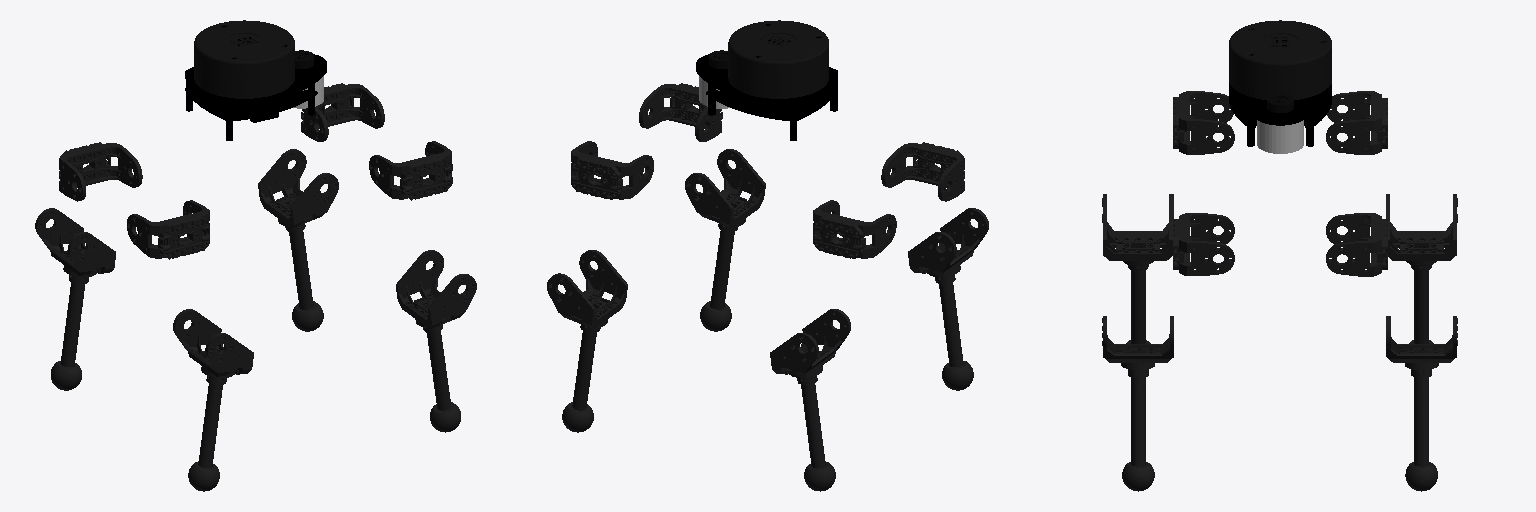
--- Facts derived from the render (not from the file) ---
Views: 3 orthographic renders of the robot side by side, from view 1: azimuth 30°, elevation 25°; view 2: azimuth 150°, elevation 25°; view 3: azimuth 270°, elevation 25°.
Model oped with 24 links and 23 joints (12 revolute, 11 fixed), rooted at base_link, posed every joint at zero.
Visible links, largest first — view 1: lidar_frame, lf_lower_leg_link, rf_lower_leg_link, rh_lower_leg_link, lh_lower_leg_link, rf_hip_link, lh_hip_link, rh_hip_link, lf_hip_link; view 2: lidar_frame, lf_lower_leg_link, rf_lower_leg_link, rh_lower_leg_link, lh_lower_leg_link, lh_hip_link, rh_hip_link, lf_hip_link, rf_hip_link; view 3: lidar_frame, lf_lower_leg_link, rf_lower_leg_link, rh_lower_leg_link, lh_lower_leg_link, lf_hip_link, rf_hip_link, lh_hip_link, rh_hip_link.
Link boxes in pixels (x1,y1,x2,y2): lidar_frame: (185, 20, 326, 140); lf_lower_leg_link: (258, 149, 338, 331); rf_lower_leg_link: (396, 250, 476, 432); rh_lower_leg_link: (173, 309, 253, 491); lh_lower_leg_link: (35, 208, 115, 390); rf_hip_link: (369, 141, 452, 200); lh_hip_link: (59, 142, 142, 201); rh_hip_link: (127, 200, 209, 259); lf_hip_link: (301, 83, 384, 141); lidar_frame: (696, 20, 837, 140); lf_lower_leg_link: (547, 250, 627, 432); rf_lower_leg_link: (685, 149, 765, 331); rh_lower_leg_link: (908, 208, 988, 390); lh_lower_leg_link: (770, 309, 850, 491); lh_hip_link: (813, 200, 896, 258); rh_hip_link: (881, 142, 964, 201); lf_hip_link: (571, 141, 653, 199); rf_hip_link: (639, 83, 722, 141); lidar_frame: (1229, 20, 1331, 153); lf_lower_leg_link: (1386, 316, 1457, 491); rf_lower_leg_link: (1102, 316, 1173, 491); rh_lower_leg_link: (1102, 194, 1173, 343); lh_lower_leg_link: (1386, 194, 1457, 343); lf_hip_link: (1326, 213, 1387, 276); rf_hip_link: (1173, 213, 1234, 275); lh_hip_link: (1326, 91, 1387, 154); rh_hip_link: (1173, 91, 1234, 154).
Bounding box of the posed robot: 0.2427 × 0.2397 × 0.2845 m (x, y, z).
9 mesh visuals loaded from 6 distinct referenced files (3 Collada DAE); not drawn: 5 (reference not matched to a file when rendering).

The robot description file, URDF, robot "oped":
<?xml version="1.0" encoding="utf-8"?>
<!-- =================================================================================== -->
<!-- |    This document was autogenerated by xacro from oped.urdf.xacro                | -->
<!-- |    EDITING THIS FILE BY HAND IS NOT RECOMMENDED                                 | -->
<!-- =================================================================================== -->
<robot name="oped">
  <material name="black">
    <color rgba="0.15 0.15 0.15 1.0"/>
  </material>
  <link name="base_link">
    <collision>
      <origin rpy="0 0 0" xyz="0 0 0"/>
      <geometry>
        <mesh filename="package://oped_description/meshes/base_x.dae"/>
      </geometry>
    </collision>
    <visual>
      <origin rpy="0 0 0" xyz="0 0 0"/>
      <geometry>
        <mesh filename="package://oped_description/meshes/base_x.dae"/>
      </geometry>
      <material name="black"/>
    </visual>
  </link>
  <link name="base_inertia">
    <inertial>
      <origin xyz="0 0 0"/>
      <mass value="0.7"/>
      <inertia ixx="0.00252956666667" ixy="0.0" ixz="0.0" iyy="0.00301373333333" iyz="0.0" izz="0.000876633333333"/>
    </inertial>
  </link>
  <joint name="base_link_to_base_inertia" type="fixed">
    <parent link="base_link"/>
    <child link="base_inertia"/>
    <origin rpy="0 0 0" xyz="0 0 0"/>
  </joint>
  <gazebo reference="base_link">
    <material>Gazebo/FlatBlack</material>
  </gazebo>
  <!-- Init colour -->
  <material name="dark">
    <color rgba="0.3 0.3 0.3 1.0"/>
  </material>
  <material name="light_black">
    <color rgba="0.4 0.4 0.4 1.0"/>
  </material>
  <material name="blue">
    <color rgba="0.0 0.0 0.8 1.0"/>
  </material>
  <material name="green">
    <color rgba="0.0 0.8 0.0 1.0"/>
  </material>
  <material name="grey">
    <color rgba="0.5 0.5 0.5 1.0"/>
  </material>
  <material name="orange">
    <color rgba="1.0 0.423529411765 0.0392156862745 1.0"/>
  </material>
  <material name="brown">
    <color rgba="0.870588235294 0.811764705882 0.764705882353 1.0"/>
  </material>
  <material name="red">
    <color rgba="0.8 0.0 0.0 1.0"/>
  </material>
  <material name="white">
    <color rgba="1.0 1.0 1.0 1.0"/>
  </material>
  <gazebo reference="lidar_frame">
    <material>Gazebo/FlatBlack</material>
    <sensor name="lds_lfcd_sensor" type="ray">
      <pose>0 0 0 0 0 0</pose>
      <visualize>false</visualize>
      <update_rate>5</update_rate>
      <ray>
        <scan>
          <horizontal>
            <samples>360</samples>
            <resolution>1</resolution>
            <min_angle>0.0</min_angle>
            <max_angle>6.28319</max_angle>
          </horizontal>
        </scan>
        <range>
          <min>0.120</min>
          <max>10.0</max>
          <resolution>0.5</resolution>
        </range>
        <noise>
          <type>gaussian</type>
          <mean>0.0</mean>
          <stddev>0.01</stddev>
        </noise>
      </ray>
      <plugin filename="libgazebo_ros_laser.so" name="gazebo_ros_lds_lfcd_controller">
        <topicName>scan</topicName>
        <frameName>lidar_frame</frameName>
      </plugin>
    </sensor>
  </gazebo>
  <joint name="scan_joint" type="fixed">
    <parent link="base_link"/>
    <child link="lidar_frame"/>
    <origin rpy="0 0 0" xyz="-0.007 0 0.077"/>
  </joint>
  <link name="lidar_frame">
    <visual>
      <origin rpy="0 0 0" xyz="0.007 0 -0.067"/>
      <geometry>
        <mesh filename="package://oped_description/meshes/rplidar.dae"/>
      </geometry>
    </visual>
    <collision>
      <origin rpy="0 0 0" xyz="0 0 0.01"/>
      <geometry>
        <cylinder length="0.0315" radius="0.035"/>
      </geometry>
      <material name="dark"/>
    </collision>
    <inertial>
      <mass value="0.001"/>
      <origin xyz="0 0 0"/>
      <inertia ixx="0.000001" ixy="0.0" ixz="0.0" iyy="0.000001" iyz="0.0" izz="0.000001"/>
    </inertial>
  </link>
  <gazebo>
    <plugin filename="libhector_gazebo_ros_imu.so" name="imu_controller">
      <robotNamespace>/</robotNamespace>
      <updateRate>50.0</updateRate>
      <bodyName>imu_link</bodyName>
      <topicName>imu/data</topicName>
      <accelDrift>0.005 0.005 0.005</accelDrift>
      <accelGaussianNoise>0.005 0.005 0.005</accelGaussianNoise>
      <rateDrift>0.005 0.005 0.005 </rateDrift>
      <rateGaussianNoise>0.005 0.005 0.005 </rateGaussianNoise>
      <headingDrift>0.005</headingDrift>
      <headingGaussianNoise>0.005</headingGaussianNoise>
    </plugin>
  </gazebo>
  <link name="imu_link">
    <inertial>
      <mass value="0.001"/>
      <origin rpy="0 0 0" xyz="0 0 0"/>
      <inertia ixx="1e-09" ixy="0.0" ixz="0.0" iyy="1e-09" iyz="0.0" izz="1e-09"/>
    </inertial>
  </link>
  <joint name="imu_joint" type="fixed">
    <parent link="base_link"/>
    <child link="imu_link"/>
  </joint>
  <link name="lf_hip_debug_link"/>
  <link name="lf_hip_link">
    <inertial>
      <mass value="0.05"/>
      <inertia ixx="1.69770833333e-05" ixy="0.0" ixz="0.0" iyy="1.24052083333e-05" iyz="0.0" izz="9.78020833333e-06"/>
    </inertial>
    <collision>
      <origin rpy="0 0 -3.14159" xyz="0 0 0"/>
      <geometry>
        <mesh filename="package://oped_description/meshes/hip.dae"/>
      </geometry>
    </collision>
    <visual>
      <origin rpy="0 0 -3.14159" xyz="0 0 0"/>
      <geometry>
        <mesh filename="package://oped_description/meshes/hip.dae"/>
      </geometry>
      <material name="black"/>
    </visual>
  </link>
  <gazebo reference="lf_hip_link">
    <material>Gazebo/FlatBlack</material>
  </gazebo>
  <link name="lf_upper_leg_link">
    <inertial>
      <origin xyz="0 0 -0.03225"/>
      <mass value="0.025"/>
      <inertia ixx="1.98258541667e-05" ixy="0.0" ixz="0.0" iyy="8.90085416667e-06" iyz="0.0" izz="2.13416666667e-05"/>
    </inertial>
    <collision>
      <origin rpy="0 0 0" xyz="0 0 0"/>
      <geometry>
        <mesh filename="package://oped_description/meshes/left_upper_leg.dae"/>
      </geometry>
    </collision>
    <visual>
      <origin rpy="0 0 0" xyz="0 0 0"/>
      <geometry>
        <mesh filename="package://oped_description/meshes/left_upper_leg.dae"/>
      </geometry>
      <material name="black"/>
    </visual>
  </link>
  <gazebo reference="lf_upper_leg_link">
    <material>Gazebo/FlatBlack</material>
  </gazebo>
  <link name="lf_lower_leg_link">
    <inertial>
      <origin xyz="0 0 -0.09285"/>
      <mass value="0.025"/>
      <inertia ixx="5.65146977721e-06" ixy="0.0" ixz="0.0" iyy="8.12310416667e-06" iyz="0.0" izz="3.23253227721e-06"/>
    </inertial>
    <collision>
      <origin rpy="0 0 0" xyz="0 0 0"/>
      <geometry>
        <mesh filename="package://oped_description/meshes/lower_leg.dae"/>
      </geometry>
    </collision>
    <visual>
      <origin rpy="0 0 0" xyz="0 0 0"/>
      <geometry>
        <mesh filename="package://oped_description/meshes/lower_leg.dae"/>
      </geometry>
      <material name="black"/>
    </visual>
  </link>
  <gazebo reference="lf_lower_leg_link">
    <kp>1000000.0</kp>
    <kd>1.0</kd>
    <mu1>0.8</mu1>
    <mu2>0.8</mu2>
    <maxVel>0.0</maxVel>
    <minDepth>0.001</minDepth>
    <material>Gazebo/FlatBlack</material>
  </gazebo>
  <link name="lf_foot_link"/>
  <joint name="lf_debug_joint" type="fixed">
    <parent link="base_link"/>
    <child link="lf_hip_debug_link"/>
    <origin rpy="0 0 0" xyz="0.099 0.04177 0"/>
  </joint>
  <joint name="lf_hip_joint" type="revolute">
    <axis xyz="1 0 0"/>
    <limit effort="1000" lower="-3.14159265359" upper="3.14159265359" velocity="1.5"/>
    <!-- <limit effort="25" lower="-0.68" upper="0.68" velocity="1.5" /> -->
    <parent link="base_link"/>
    <child link="lf_hip_link"/>
    <origin rpy="0 0 0" xyz="0.099 0.04177 0"/>
  </joint>
  <joint name="lf_upper_leg_joint" type="revolute">
    <axis xyz="0 1 0"/>
    <limit effort="1000" lower="-3.14159265359" upper="3.14159265359" velocity="1.5"/>
    <parent link="lf_hip_link"/>
    <child link="lf_upper_leg_link"/>
    <origin rpy="0 0 0" xyz="0 0.052 0"/>
  </joint>
  <joint name="lf_lower_leg_joint" type="revolute">
    <axis xyz="0 1 0"/>
    <limit effort="1000" lower="-3.14159265359" upper="3.14159265359" velocity="1.5"/>
    <!-- <limit effort="25" lower="-2.84" upper="0.54" velocity="1.5" /> -->
    <parent link="lf_upper_leg_link"/>
    <child link="lf_lower_leg_link"/>
    <origin rpy="0 0 0" xyz="0 0.0015 -0.0645"/>
  </joint>
  <joint name="lf_foot_joint" type="fixed">
    <parent link="lf_lower_leg_link"/>
    <child link="lf_foot_link"/>
    <origin rpy="0 0 0" xyz="0 0 -0.118"/>
  </joint>
  <transmission name="lf_hip_joint_trans">
    <type>transmission_interface/SimpleTransmission</type>
    <joint name="lf_hip_joint">
      <hardwareInterface>hardware_interface/EffortJointInterface</hardwareInterface>
    </joint>
    <actuator name="lf_hip_joint_motor">
      <hardwareInterface>hardware_interface/EffortJointInterface</hardwareInterface>
      <mechanicalReduction>1</mechanicalReduction>
    </actuator>
  </transmission>
  <transmission name="lf_upper_leg_joint_trans">
    <type>transmission_interface/SimpleTransmission</type>
    <joint name="lf_upper_leg_joint">
      <hardwareInterface>hardware_interface/EffortJointInterface</hardwareInterface>
    </joint>
    <actuator name="lf_upper_leg_joint_motor">
      <hardwareInterface>hardware_interface/EffortJointInterface</hardwareInterface>
      <mechanicalReduction>1</mechanicalReduction>
    </actuator>
  </transmission>
  <transmission name="lf_lower_leg_joint_trans">
    <type>transmission_interface/SimpleTransmission</type>
    <joint name="lf_lower_leg_joint">
      <hardwareInterface>hardware_interface/EffortJointInterface</hardwareInterface>
    </joint>
    <actuator name="lf_lower_joint_motor">
      <hardwareInterface>hardware_interface/EffortJointInterface</hardwareInterface>
      <mechanicalReduction>1</mechanicalReduction>
    </actuator>
  </transmission>
  <link name="lh_hip_debug_link"/>
  <link name="lh_hip_link">
    <inertial>
      <mass value="0.05"/>
      <inertia ixx="1.69770833333e-05" ixy="0.0" ixz="0.0" iyy="1.24052083333e-05" iyz="0.0" izz="9.78020833333e-06"/>
    </inertial>
    <collision>
      <origin rpy="0 0 -3.14159" xyz="0 0 0"/>
      <geometry>
        <mesh filename="package://oped_description/meshes/hip.dae"/>
      </geometry>
    </collision>
    <visual>
      <origin rpy="0 0 -3.14159" xyz="0 0 0"/>
      <geometry>
        <mesh filename="package://oped_description/meshes/hip.dae"/>
      </geometry>
      <material name="black"/>
    </visual>
  </link>
  <gazebo reference="lh_hip_link">
    <material>Gazebo/FlatBlack</material>
  </gazebo>
  <link name="lh_upper_leg_link">
    <inertial>
      <origin xyz="0 0 -0.03225"/>
      <mass value="0.025"/>
      <inertia ixx="1.98258541667e-05" ixy="0.0" ixz="0.0" iyy="8.90085416667e-06" iyz="0.0" izz="2.13416666667e-05"/>
    </inertial>
    <collision>
      <origin rpy="0 0 -3.14159" xyz="0 0 0"/>
      <geometry>
        <mesh filename="package://oped_description/meshes/left_upper_leg.dae"/>
      </geometry>
    </collision>
    <visual>
      <origin rpy="0 0 -3.14159" xyz="0 0 0"/>
      <geometry>
        <mesh filename="package://oped_description/meshes/left_upper_leg.dae"/>
      </geometry>
      <material name="black"/>
    </visual>
  </link>
  <gazebo reference="lh_upper_leg_link">
    <material>Gazebo/FlatBlack</material>
  </gazebo>
  <link name="lh_lower_leg_link">
    <inertial>
      <origin xyz="0 0 -0.09285"/>
      <mass value="0.025"/>
      <inertia ixx="5.65146977721e-06" ixy="0.0" ixz="0.0" iyy="8.12310416667e-06" iyz="0.0" izz="3.23253227721e-06"/>
    </inertial>
    <collision>
      <origin rpy="0 0 -3.14159" xyz="0 0 0"/>
      <geometry>
        <mesh filename="package://oped_description/meshes/lower_leg.dae"/>
      </geometry>
    </collision>
    <visual>
      <origin rpy="0 0 -3.14159" xyz="0 0 0"/>
      <geometry>
        <mesh filename="package://oped_description/meshes/lower_leg.dae"/>
      </geometry>
      <material name="black"/>
    </visual>
  </link>
  <gazebo reference="lh_lower_leg_link">
    <kp>1000000.0</kp>
    <kd>1.0</kd>
    <mu1>0.8</mu1>
    <mu2>0.8</mu2>
    <maxVel>0.0</maxVel>
    <minDepth>0.001</minDepth>
    <material>Gazebo/FlatBlack</material>
  </gazebo>
  <link name="lh_foot_link"/>
  <joint name="lh_debug_joint" type="fixed">
    <parent link="base_link"/>
    <child link="lh_hip_debug_link"/>
    <origin rpy="0 0 0" xyz="-0.095 0.04177 0"/>
  </joint>
  <joint name="lh_hip_joint" type="revolute">
    <axis xyz="1 0 0"/>
    <limit effort="1000" lower="-3.14159265359" upper="3.14159265359" velocity="1.5"/>
    <!-- <limit effort="25" lower="-0.68" upper="0.68" velocity="1.5" /> -->
    <parent link="base_link"/>
    <child link="lh_hip_link"/>
    <origin rpy="0 0 0" xyz="-0.095 0.04177 0"/>
  </joint>
  <joint name="lh_upper_leg_joint" type="revolute">
    <axis xyz="0 1 0"/>
    <limit effort="1000" lower="-3.14159265359" upper="3.14159265359" velocity="1.5"/>
    <parent link="lh_hip_link"/>
    <child link="lh_upper_leg_link"/>
    <origin rpy="0 0 0" xyz="0 0.052 0"/>
  </joint>
  <joint name="lh_lower_leg_joint" type="revolute">
    <axis xyz="0 1 0"/>
    <limit effort="1000" lower="-3.14159265359" upper="3.14159265359" velocity="1.5"/>
    <!-- <limit effort="25" lower="-2.84" upper="0.54" velocity="1.5" /> -->
    <parent link="lh_upper_leg_link"/>
    <child link="lh_lower_leg_link"/>
    <origin rpy="0 0 0" xyz="0 0.0015 -0.0645"/>
  </joint>
  <joint name="lh_foot_joint" type="fixed">
    <parent link="lh_lower_leg_link"/>
    <child link="lh_foot_link"/>
    <origin rpy="0 0 0" xyz="0 0 -0.118"/>
  </joint>
  <transmission name="lh_hip_joint_trans">
    <type>transmission_interface/SimpleTransmission</type>
    <joint name="lh_hip_joint">
      <hardwareInterface>hardware_interface/EffortJointInterface</hardwareInterface>
    </joint>
    <actuator name="lh_hip_joint_motor">
      <hardwareInterface>hardware_interface/EffortJointInterface</hardwareInterface>
      <mechanicalReduction>1</mechanicalReduction>
    </actuator>
  </transmission>
  <transmission name="lh_upper_leg_joint_trans">
    <type>transmission_interface/SimpleTransmission</type>
    <joint name="lh_upper_leg_joint">
      <hardwareInterface>hardware_interface/EffortJointInterface</hardwareInterface>
    </joint>
    <actuator name="lh_upper_leg_joint_motor">
      <hardwareInterface>hardware_interface/EffortJointInterface</hardwareInterface>
      <mechanicalReduction>1</mechanicalReduction>
    </actuator>
  </transmission>
  <transmission name="lh_lower_leg_joint_trans">
    <type>transmission_interface/SimpleTransmission</type>
    <joint name="lh_lower_leg_joint">
      <hardwareInterface>hardware_interface/EffortJointInterface</hardwareInterface>
    </joint>
    <actuator name="lh_lower_joint_motor">
      <hardwareInterface>hardware_interface/EffortJointInterface</hardwareInterface>
      <mechanicalReduction>1</mechanicalReduction>
    </actuator>
  </transmission>
  <link name="rf_hip_debug_link"/>
  <link name="rf_hip_link">
    <inertial>
      <mass value="0.05"/>
      <inertia ixx="1.69770833333e-05" ixy="0.0" ixz="0.0" iyy="1.24052083333e-05" iyz="0.0" izz="9.78020833333e-06"/>
    </inertial>
    <collision>
      <origin rpy="0 0 0" xyz="0 0 0"/>
      <geometry>
        <mesh filename="package://oped_description/meshes/hip.dae"/>
      </geometry>
    </collision>
    <visual>
      <origin rpy="0 0 0" xyz="0 0 0"/>
      <geometry>
        <mesh filename="package://oped_description/meshes/hip.dae"/>
      </geometry>
      <material name="black"/>
    </visual>
  </link>
  <gazebo reference="rf_hip_link">
    <material>Gazebo/FlatBlack</material>
  </gazebo>
  <link name="rf_upper_leg_link">
    <inertial>
      <origin xyz="0 0 -0.03225"/>
      <mass value="0.025"/>
      <inertia ixx="1.98258541667e-05" ixy="0.0" ixz="0.0" iyy="8.90085416667e-06" iyz="0.0" izz="2.13416666667e-05"/>
    </inertial>
    <collision>
      <origin rpy="0 0 0" xyz="0 0 0"/>
      <geometry>
        <mesh filename="package://oped_description/meshes/right_upper_leg.dae"/>
      </geometry>
    </collision>
    <visual>
      <origin rpy="0 0 0" xyz="0 0 0"/>
      <geometry>
        <mesh filename="package://oped_description/meshes/right_upper_leg.dae"/>
      </geometry>
      <material name="black"/>
    </visual>
  </link>
  <gazebo reference="rf_upper_leg_link">
    <material>Gazebo/FlatBlack</material>
  </gazebo>
  <link name="rf_lower_leg_link">
    <inertial>
      <origin xyz="0 0 -0.09285"/>
      <mass value="0.025"/>
      <inertia ixx="5.65146977721e-06" ixy="0.0" ixz="0.0" iyy="8.12310416667e-06" iyz="0.0" izz="3.23253227721e-06"/>
    </inertial>
    <collision>
      <origin rpy="0 0 0" xyz="0 0 0"/>
      <geometry>
        <mesh filename="package://oped_description/meshes/lower_leg.dae"/>
      </geometry>
    </collision>
    <visual>
      <origin rpy="0 0 0" xyz="0 0 0"/>
      <geometry>
        <mesh filename="package://oped_description/meshes/lower_leg.dae"/>
      </geometry>
      <material name="black"/>
    </visual>
  </link>
  <gazebo reference="rf_lower_leg_link">
    <kp>1000000.0</kp>
    <kd>1.0</kd>
    <mu1>0.8</mu1>
    <mu2>0.8</mu2>
    <maxVel>0.0</maxVel>
    <minDepth>0.001</minDepth>
    <material>Gazebo/FlatBlack</material>
  </gazebo>
  <link name="rf_foot_link"/>
  <joint name="rf_debug_joint" type="fixed">
    <parent link="base_link"/>
    <child link="rf_hip_debug_link"/>
    <origin rpy="0 0 0" xyz="0.099 -0.04177 0"/>
  </joint>
  <joint name="rf_hip_joint" type="revolute">
    <axis xyz="1 0 0"/>
    <limit effort="1000" lower="-3.14159265359" upper="3.14159265359" velocity="1.5"/>
    <!-- <limit effort="25" lower="-0.68" upper="0.68" velocity="1.5" /> -->
    <parent link="base_link"/>
    <child link="rf_hip_link"/>
    <origin rpy="0 0 0" xyz="0.099 -0.04177 0"/>
  </joint>
  <joint name="rf_upper_leg_joint" type="revolute">
    <axis xyz="0 1 0"/>
    <limit effort="1000" lower="-3.14159265359" upper="3.14159265359" velocity="1.5"/>
    <parent link="rf_hip_link"/>
    <child link="rf_upper_leg_link"/>
    <origin rpy="0 0 0" xyz="0 -0.052 0"/>
  </joint>
  <joint name="rf_lower_leg_joint" type="revolute">
    <axis xyz="0 1 0"/>
    <limit effort="1000" lower="-3.14159265359" upper="3.14159265359" velocity="1.5"/>
    <!-- <limit effort="25" lower="-2.84" upper="0.54" velocity="1.5" /> -->
    <parent link="rf_upper_leg_link"/>
    <child link="rf_lower_leg_link"/>
    <origin rpy="0 0 0" xyz="0 -0.002 -0.0645"/>
  </joint>
  <joint name="rf_foot_joint" type="fixed">
    <parent link="rf_lower_leg_link"/>
    <child link="rf_foot_link"/>
    <origin rpy="0 0 0" xyz="0 0 -0.118"/>
  </joint>
  <transmission name="rf_hip_joint_trans">
    <type>transmission_interface/SimpleTransmission</type>
    <joint name="rf_hip_joint">
      <hardwareInterface>hardware_interface/EffortJointInterface</hardwareInterface>
    </joint>
    <actuator name="rf_hip_joint_motor">
      <hardwareInterface>hardware_interface/EffortJointInterface</hardwareInterface>
      <mechanicalReduction>1</mechanicalReduction>
    </actuator>
  </transmission>
  <transmission name="rf_upper_leg_joint_trans">
    <type>transmission_interface/SimpleTransmission</type>
    <joint name="rf_upper_leg_joint">
      <hardwareInterface>hardware_interface/EffortJointInterface</hardwareInterface>
    </joint>
    <actuator name="rf_upper_leg_joint_motor">
      <hardwareInterface>hardware_interface/EffortJointInterface</hardwareInterface>
      <mechanicalReduction>1</mechanicalReduction>
    </actuator>
  </transmission>
  <transmission name="rf_lower_leg_joint_trans">
    <type>transmission_interface/SimpleTransmission</type>
    <joint name="rf_lower_leg_joint">
      <hardwareInterface>hardware_interface/EffortJointInterface</hardwareInterface>
    </joint>
    <actuator name="rf_lower_joint_motor">
      <hardwareInterface>hardware_interface/EffortJointInterface</hardwareInterface>
      <mechanicalReduction>1</mechanicalReduction>
    </actuator>
  </transmission>
  <link name="rh_hip_debug_link"/>
  <link name="rh_hip_link">
    <inertial>
      <mass value="0.05"/>
      <inertia ixx="1.69770833333e-05" ixy="0.0" ixz="0.0" iyy="1.24052083333e-05" iyz="0.0" izz="9.78020833333e-06"/>
    </inertial>
    <collision>
      <origin rpy="0 0 0" xyz="0 0 0"/>
      <geometry>
        <mesh filename="package://oped_description/meshes/hip.dae"/>
      </geometry>
    </collision>
    <visual>
      <origin rpy="0 0 0" xyz="0 0 0"/>
      <geometry>
        <mesh filename="package://oped_description/meshes/hip.dae"/>
      </geometry>
      <material name="black"/>
    </visual>
  </link>
  <gazebo reference="rh_hip_link">
    <material>Gazebo/FlatBlack</material>
  </gazebo>
  <link name="rh_upper_leg_link">
    <inertial>
      <origin xyz="0 0 -0.03225"/>
      <mass value="0.025"/>
      <inertia ixx="1.98258541667e-05" ixy="0.0" ixz="0.0" iyy="8.90085416667e-06" iyz="0.0" izz="2.13416666667e-05"/>
    </inertial>
    <collision>
      <origin rpy="0 0 -3.14159" xyz="0 0 0"/>
      <geometry>
        <mesh filename="package://oped_description/meshes/right_upper_leg.dae"/>
      </geometry>
    </collision>
    <visual>
      <origin rpy="0 0 -3.14159" xyz="0 0 0"/>
      <geometry>
        <mesh filename="package://oped_description/meshes/right_upper_leg.dae"/>
      </geometry>
      <material name="black"/>
    </visual>
  </link>
  <gazebo reference="rh_upper_leg_link">
    <material>Gazebo/FlatBlack</material>
  </gazebo>
  <link name="rh_lower_leg_link">
    <inertial>
      <origin xyz="0 0 -0.09285"/>
      <mass value="0.025"/>
      <inertia ixx="5.65146977721e-06" ixy="0.0" ixz="0.0" iyy="8.12310416667e-06" iyz="0.0" izz="3.23253227721e-06"/>
    </inertial>
    <collision>
      <origin rpy="0 0 -3.14159" xyz="0 0 0"/>
      <geometry>
        <mesh filename="package://oped_description/meshes/lower_leg.dae"/>
      </geometry>
    </collision>
    <visual>
      <origin rpy="0 0 -3.14159" xyz="0 0 0"/>
      <geometry>
        <mesh filename="package://oped_description/meshes/lower_leg.dae"/>
      </geometry>
      <material name="black"/>
    </visual>
  </link>
  <gazebo reference="rh_lower_leg_link">
    <kp>1000000.0</kp>
    <kd>1.0</kd>
    <mu1>0.8</mu1>
    <mu2>0.8</mu2>
    <maxVel>0.0</maxVel>
    <minDepth>0.001</minDepth>
    <material>Gazebo/FlatBlack</material>
  </gazebo>
  <link name="rh_foot_link"/>
  <joint name="rh_debug_joint" type="fixed">
    <parent link="base_link"/>
    <child link="rh_hip_debug_link"/>
    <origin rpy="0 0 0" xyz="-0.095 -0.04177 0"/>
  </joint>
  <joint name="rh_hip_joint" type="revolute">
    <axis xyz="1 0 0"/>
    <limit effort="1000" lower="-3.14159265359" upper="3.14159265359" velocity="1.5"/>
    <!-- <limit effort="25" lower="-0.68" upper="0.68" velocity="1.5" /> -->
    <parent link="base_link"/>
    <child link="rh_hip_link"/>
    <origin rpy="0 0 0" xyz="-0.095 -0.04177 0"/>
  </joint>
  <joint name="rh_upper_leg_joint" type="revolute">
    <axis xyz="0 1 0"/>
    <limit effort="1000" lower="-3.14159265359" upper="3.14159265359" velocity="1.5"/>
    <parent link="rh_hip_link"/>
    <child link="rh_upper_leg_link"/>
    <origin rpy="0 0 0" xyz="0 -0.052 0"/>
  </joint>
  <joint name="rh_lower_leg_joint" type="revolute">
    <axis xyz="0 1 0"/>
    <limit effort="1000" lower="-3.14159265359" upper="3.14159265359" velocity="1.5"/>
    <!-- <limit effort="25" lower="-2.84" upper="0.54" velocity="1.5" /> -->
    <parent link="rh_upper_leg_link"/>
    <child link="rh_lower_leg_link"/>
    <origin rpy="0 0 0" xyz="0 -0.002 -0.0645"/>
  </joint>
  <joint name="rh_foot_joint" type="fixed">
    <parent link="rh_lower_leg_link"/>
    <child link="rh_foot_link"/>
    <origin rpy="0 0 0" xyz="0 0 -0.118"/>
  </joint>
  <transmission name="rh_hip_joint_trans">
    <type>transmission_interface/SimpleTransmission</type>
    <joint name="rh_hip_joint">
      <hardwareInterface>hardware_interface/EffortJointInterface</hardwareInterface>
    </joint>
    <actuator name="rh_hip_joint_motor">
      <hardwareInterface>hardware_interface/EffortJointInterface</hardwareInterface>
      <mechanicalReduction>1</mechanicalReduction>
    </actuator>
  </transmission>
  <transmission name="rh_upper_leg_joint_trans">
    <type>transmission_interface/SimpleTransmission</type>
    <joint name="rh_upper_leg_joint">
      <hardwareInterface>hardware_interface/EffortJointInterface</hardwareInterface>
    </joint>
    <actuator name="rh_upper_leg_joint_motor">
      <hardwareInterface>hardware_interface/EffortJointInterface</hardwareInterface>
      <mechanicalReduction>1</mechanicalReduction>
    </actuator>
  </transmission>
  <transmission name="rh_lower_leg_joint_trans">
    <type>transmission_interface/SimpleTransmission</type>
    <joint name="rh_lower_leg_joint">
      <hardwareInterface>hardware_interface/EffortJointInterface</hardwareInterface>
    </joint>
    <actuator name="rh_lower_joint_motor">
      <hardwareInterface>hardware_interface/EffortJointInterface</hardwareInterface>
      <mechanicalReduction>1</mechanicalReduction>
    </actuator>
  </transmission>
  <gazebo>
    <plugin filename="libgazebo_ros_p3d.so" name="p3d_base_controller">
      <alwaysOn>true</alwaysOn>
      <updateRate>10.0</updateRate>
      <bodyName>base_link</bodyName>
      <topicName>odom/ground_truth</topicName>
      <gaussianNoise>0.01</gaussianNoise>
      <frameName>world</frameName>
      <xyzOffsets>0 0 0</xyzOffsets>
      <rpyOffsets>0 0 0</rpyOffsets>
    </plugin>
  </gazebo>
  <gazebo>
    <plugin filename="libgazebo_ros_control.so" name="gazebo_ros_control">
      <legacyModeNS>true</legacyModeNS>
    </plugin>
  </gazebo>
</robot>
